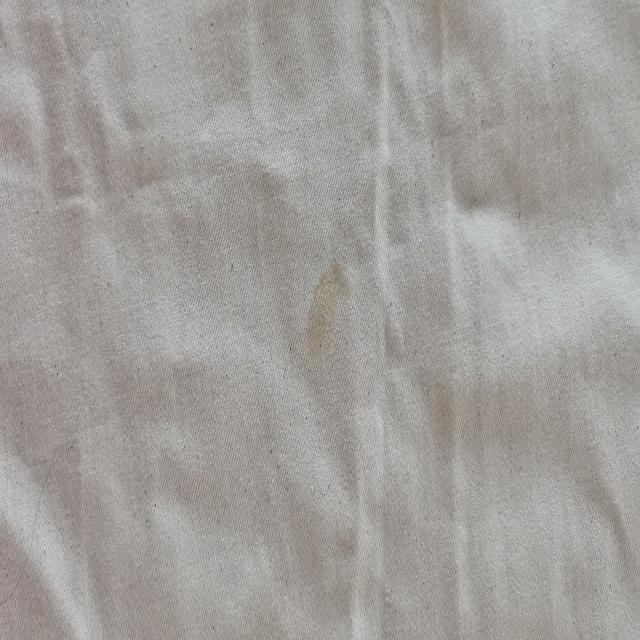taaaches: (305, 265, 348, 364)
